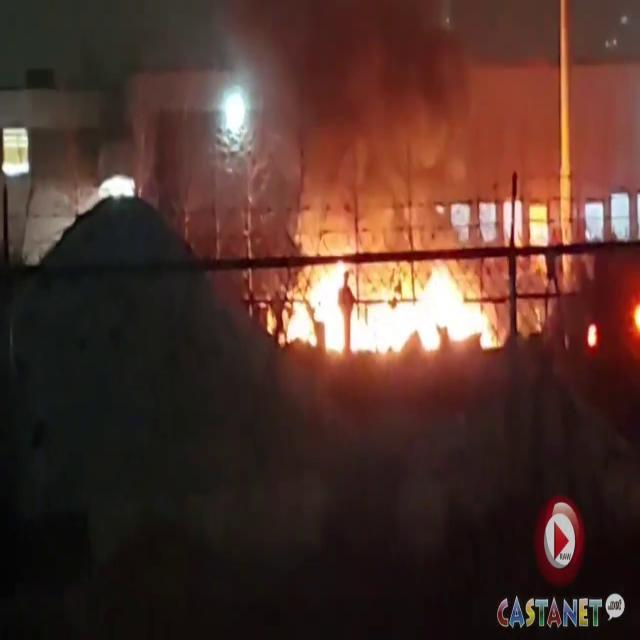Fire: (266, 238, 508, 369)
Smoke: (255, 0, 476, 229)
